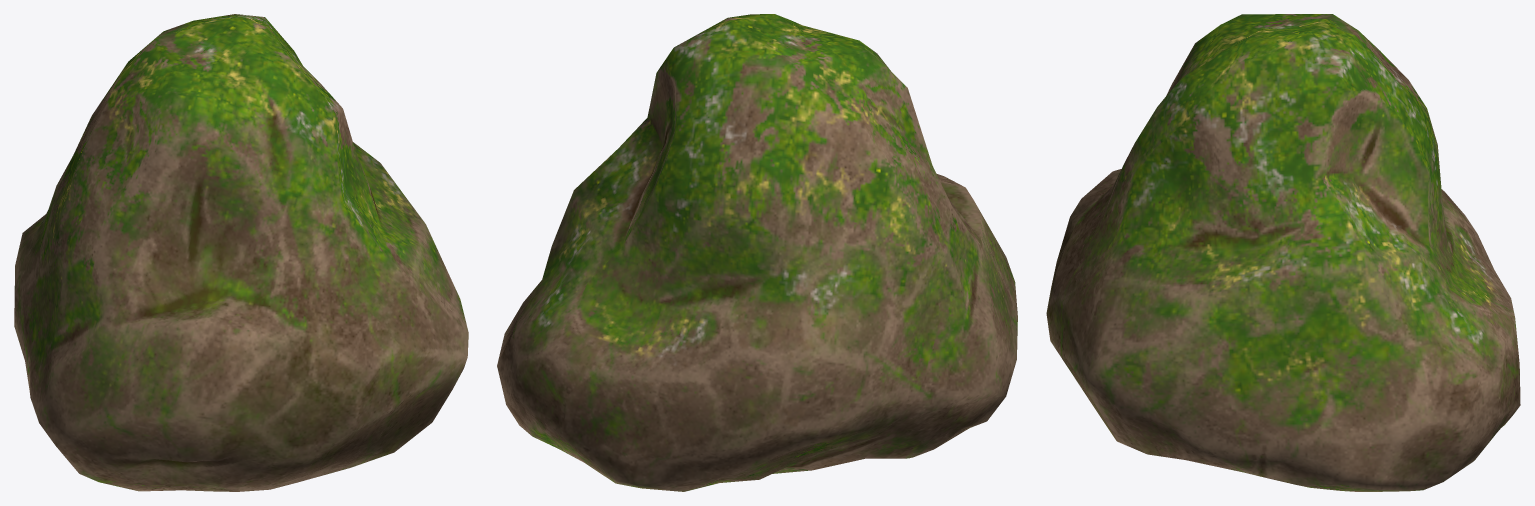
Rendered from sb_obj_nature007_Rock04b.fbx.
3 views of the same model, side by side, from view 1: azimuth 30°, elevation 25°; view 2: azimuth 150°, elevation 25°; view 3: azimuth 270°, elevation 25° (orthographic). The views are drawn at different scales.
Parts seen in each view (by area): view 1: sb_obj_nature007_Rock04b; view 2: sb_obj_nature007_Rock04b; view 3: sb_obj_nature007_Rock04b.
Boxes of the visible parts, bbox=[...] form: sb_obj_nature007_Rock04b: bbox=[14, 14, 468, 491]; sb_obj_nature007_Rock04b: bbox=[497, 14, 1017, 491]; sb_obj_nature007_Rock04b: bbox=[1046, 14, 1520, 491].
Bounding box in the file's own units: 1.62 × 1.56 × 1.65.
